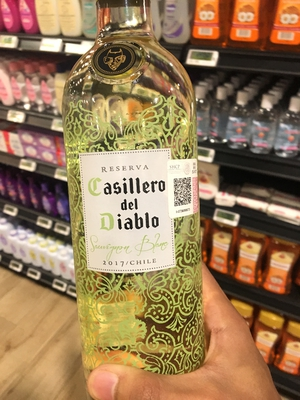casillero del diablo sauvignon blanc: (59, 19, 220, 378)
